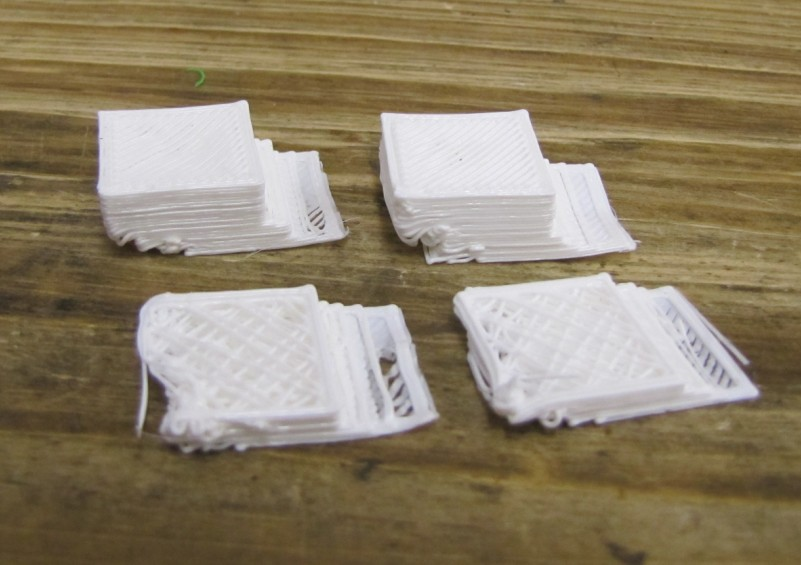3dplayershift: (318, 293, 399, 441), (516, 220, 603, 261), (410, 233, 497, 270), (116, 233, 204, 260)
3dpoverextrusion: (107, 200, 255, 229)
3dptoplayergaps: (485, 296, 656, 389), (168, 311, 311, 408), (124, 119, 200, 162)
